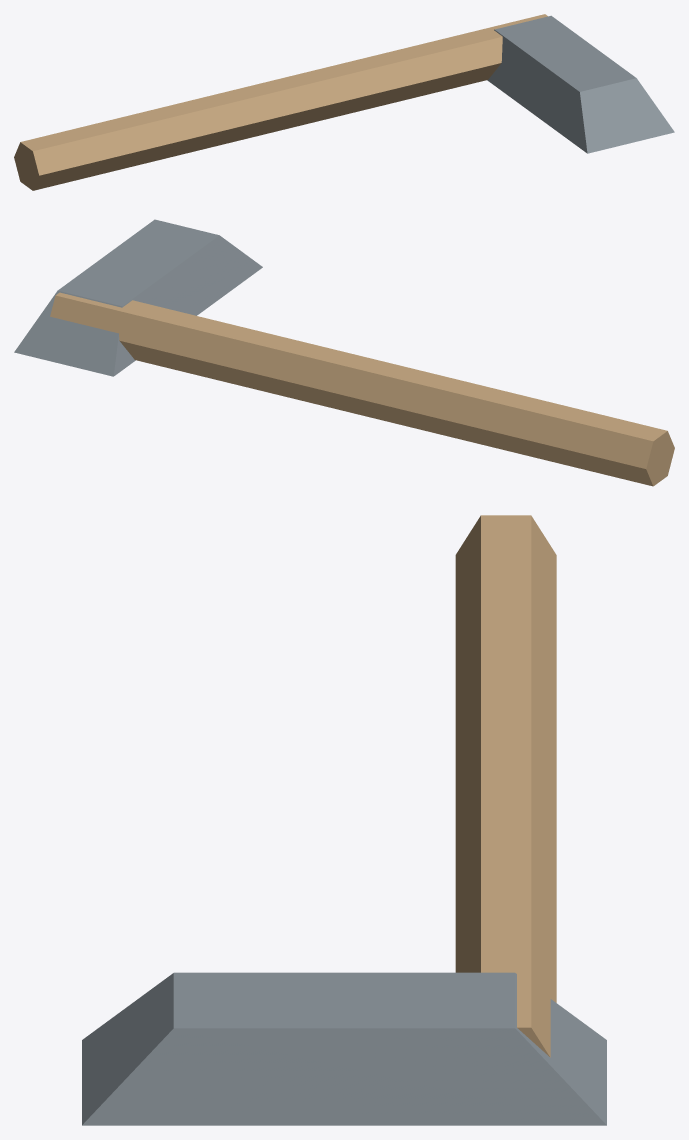
File: item_109_iron_adze_s.glb
3 views of the same model, one above another, from view 1: azimuth 30°, elevation 25°; view 2: azimuth 150°, elevation 25°; view 3: azimuth 270°, elevation 25° (orthographic). The views are drawn at different scales.
Parts seen in each view (by area): view 1: item_109_iron_adze_s; view 2: item_109_iron_adze_s; view 3: item_109_iron_adze_s.
Part boxes in pixels (left/top/right/bottom): item_109_iron_adze_s: left=14, top=14, right=674, bottom=190; item_109_iron_adze_s: left=14, top=219, right=674, bottom=486; item_109_iron_adze_s: left=82, top=515, right=606, bottom=1125.
Size of the model in its own units: 0.62 by 0.045 by 0.26.
